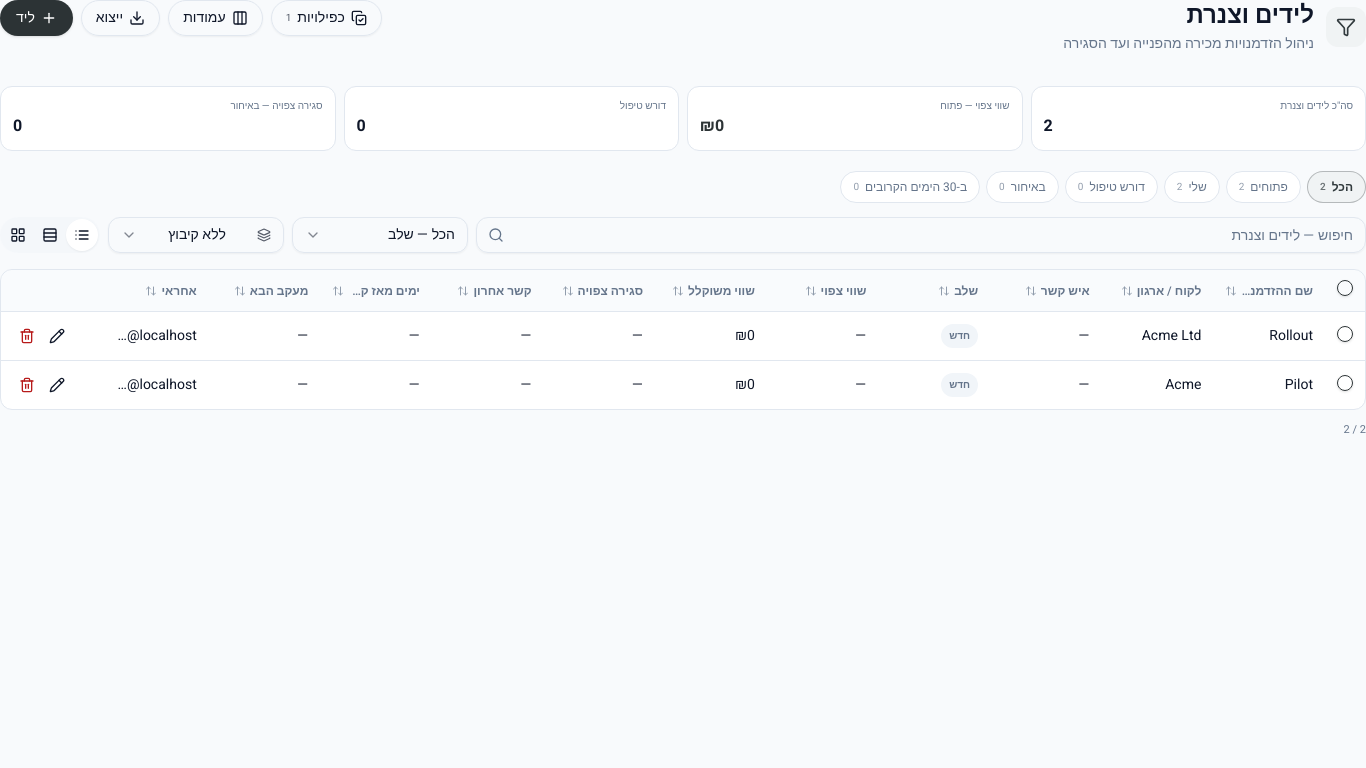
Test: duplicates › lists the matching records together
This screenshot has width=1366, height=768.
What coordinates should you click on to do the following:
click the button "כפילויות 1"
I would click on:
 (326, 18)
Its box is left=271, top=0, right=382, bottom=36.
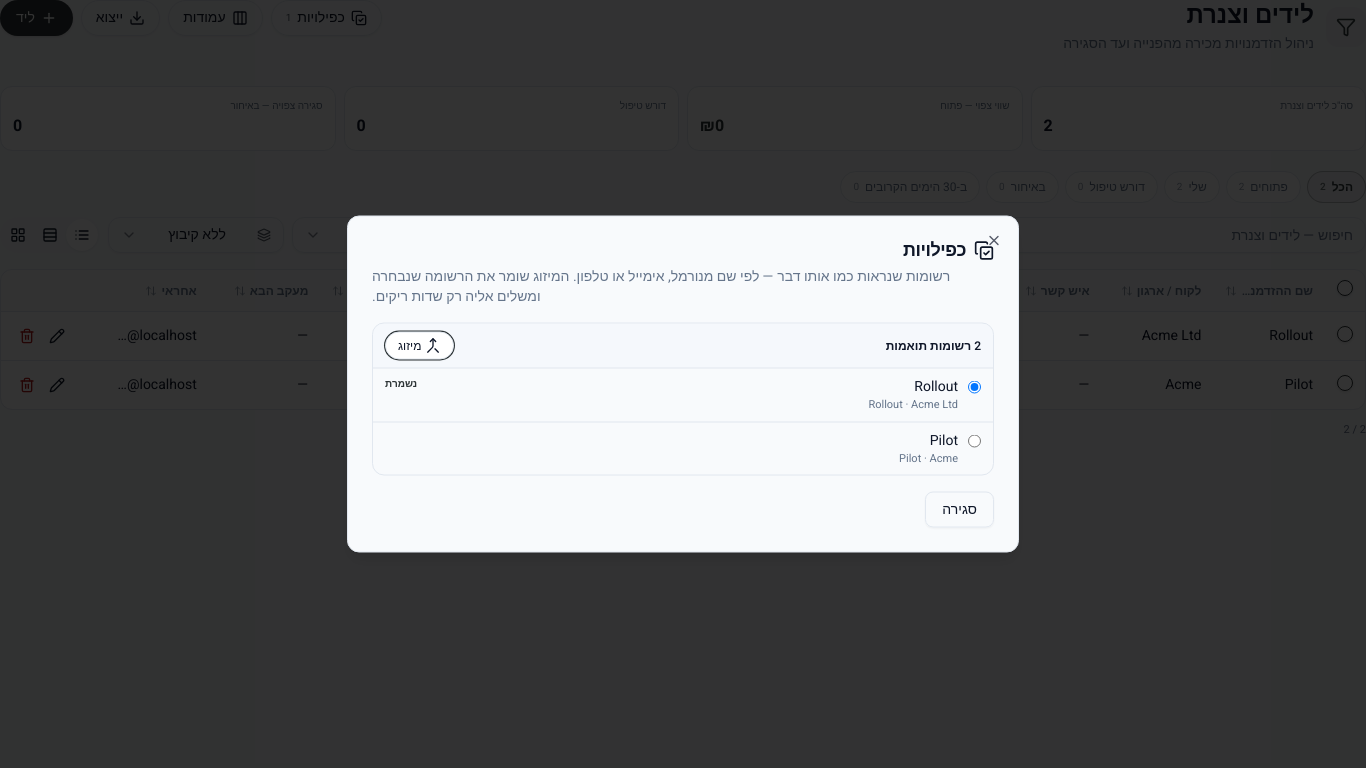
Result: the text "Rollout" is shown at left=914, top=376, right=958, bottom=396
Result: the text "Pilot" is shown at left=930, top=429, right=958, bottom=450
